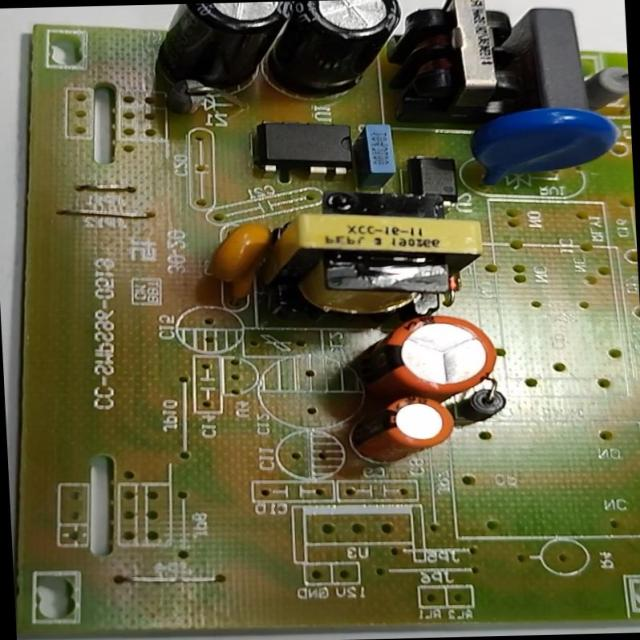Cap1: (340, 315, 496, 400)
Cap2: (355, 397, 453, 463)
Cap3: (281, 0, 408, 104)
Cap4: (148, 1, 295, 95)
MOSFET: (252, 115, 358, 177)
Mov: (471, 104, 623, 184)
Resistor: (585, 62, 629, 106)
Transformer: (254, 196, 486, 319), (406, 0, 519, 115)
